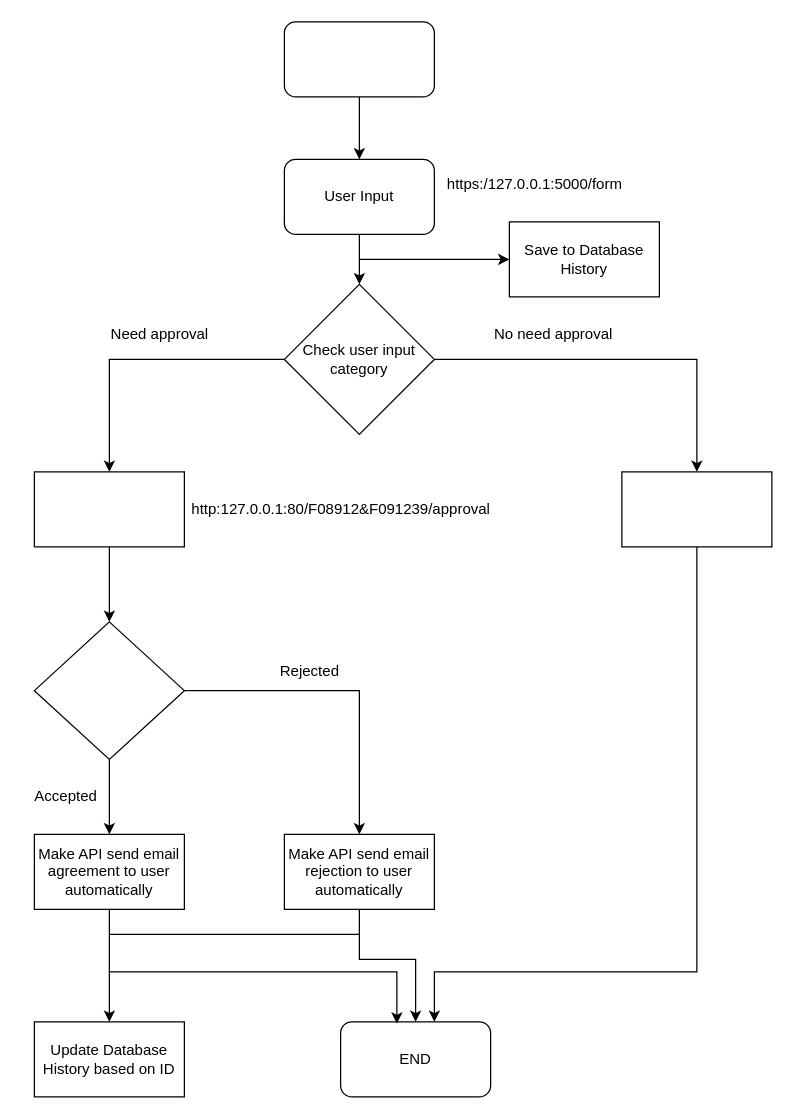
The diagram is 794 pixels wide and 1119 high, and some of its shapes have lost their labels. The shapes that lost their labels are listed below. From the top down, each one's box as (x1, y1, x2, y2) in pixels, then its label:
(283, 21, 434, 97): START
(33, 471, 184, 547): Make API send email to bu Wiwi based on today's form id
(621, 471, 772, 547): Make API send email to user automatically
(33, 621, 184, 759): Check Bu wiwi's response
